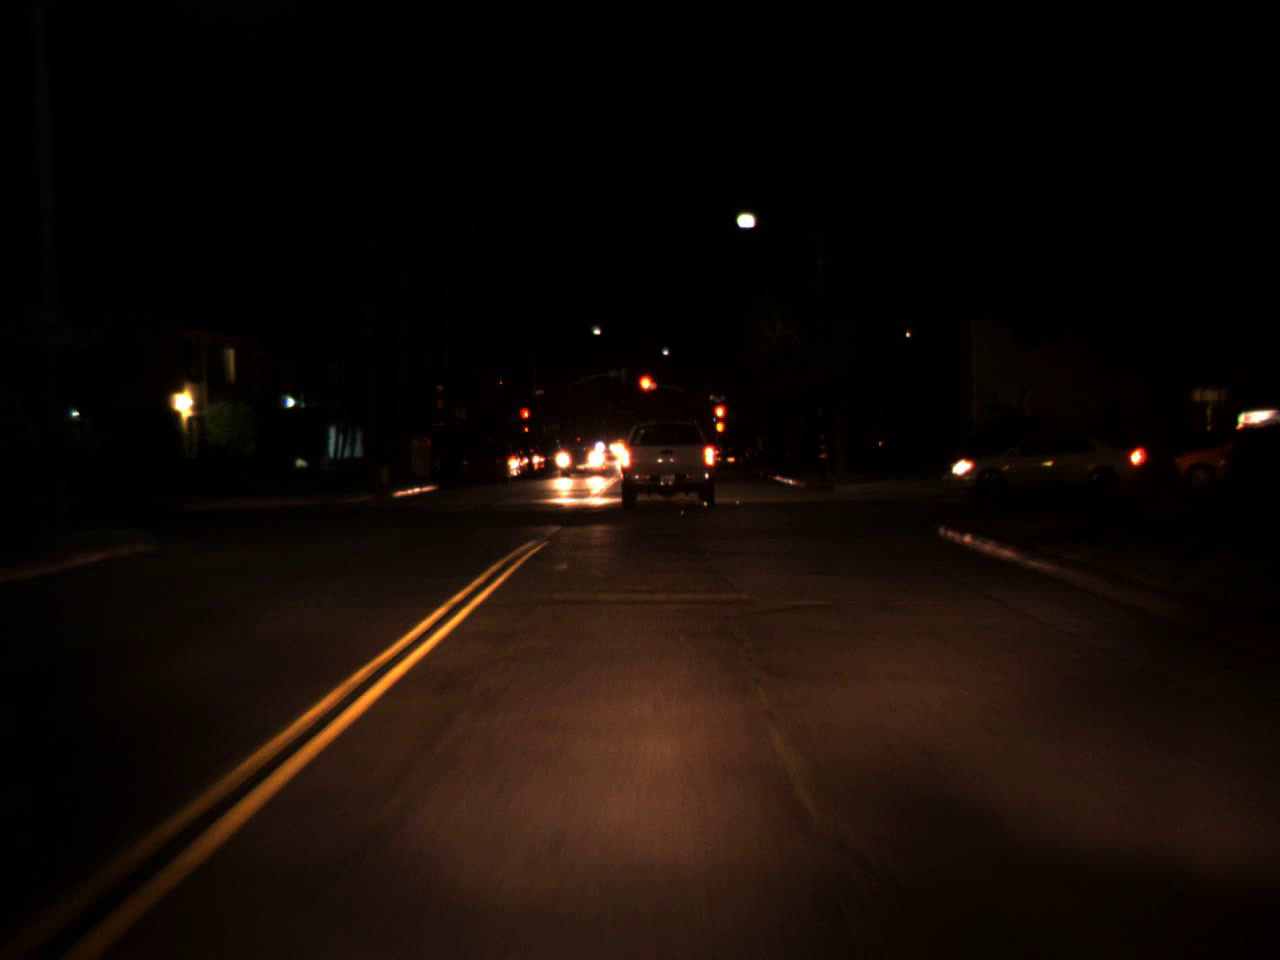stop: (636, 373, 657, 408), (712, 403, 727, 435), (520, 408, 529, 429)
